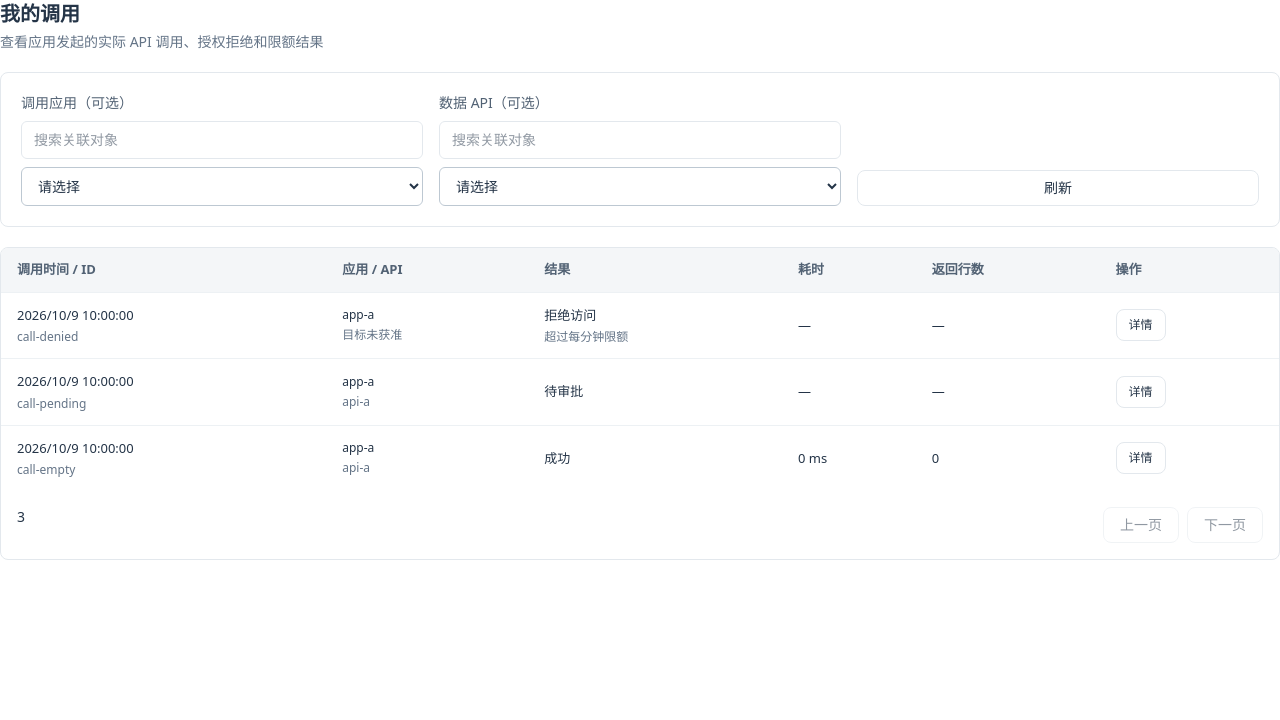
Test case: actual service call records › keeps denied and pending observations unknown while displaying real zero values
Check: the 1st cell "—" is shown, box [782,292,916,358]
Check: the 2nd cell "—" is shown, box [916,292,1100,358]
What coordinates should you click on to do the following:
click the button "详情" in the row of "call-pending"
I would click on:
 (1141, 392)
Its box is [1116,376,1166,408].
(page scrolled)
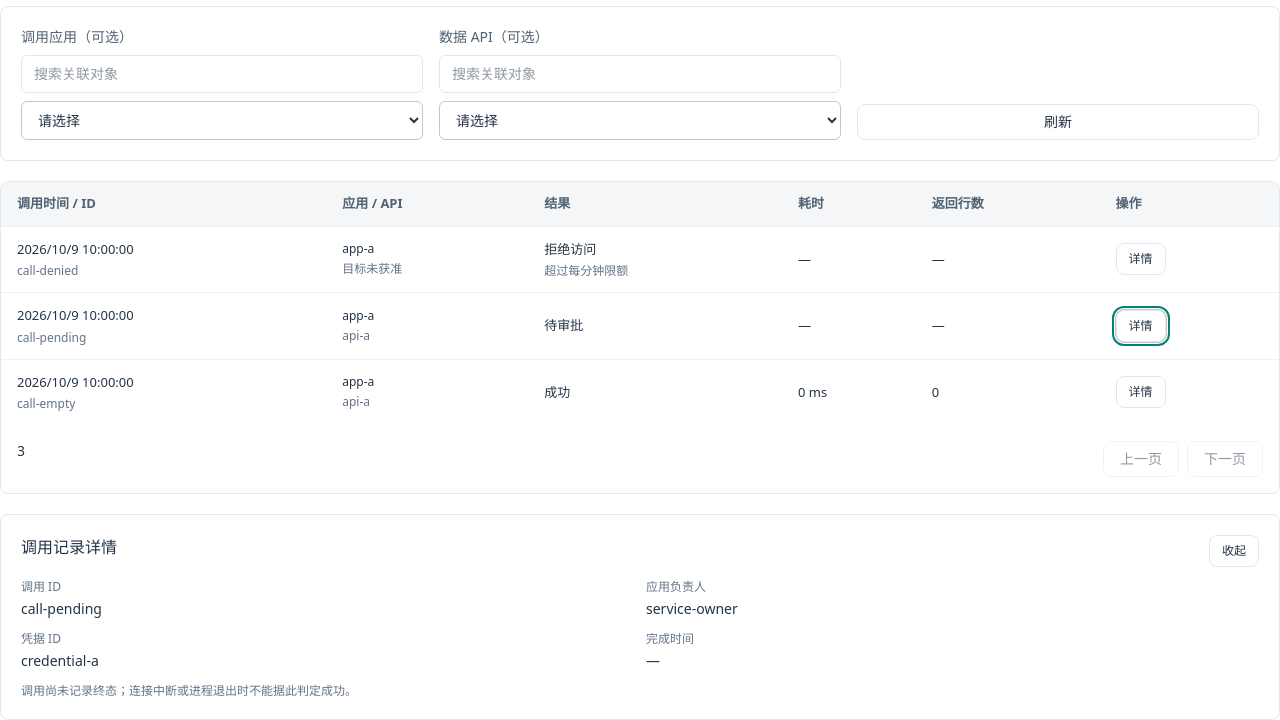
Check: the text "调用尚未记录终态；连接中断或进程退出时不能据此判定成功。" is shown, box [21,682,357,699]
